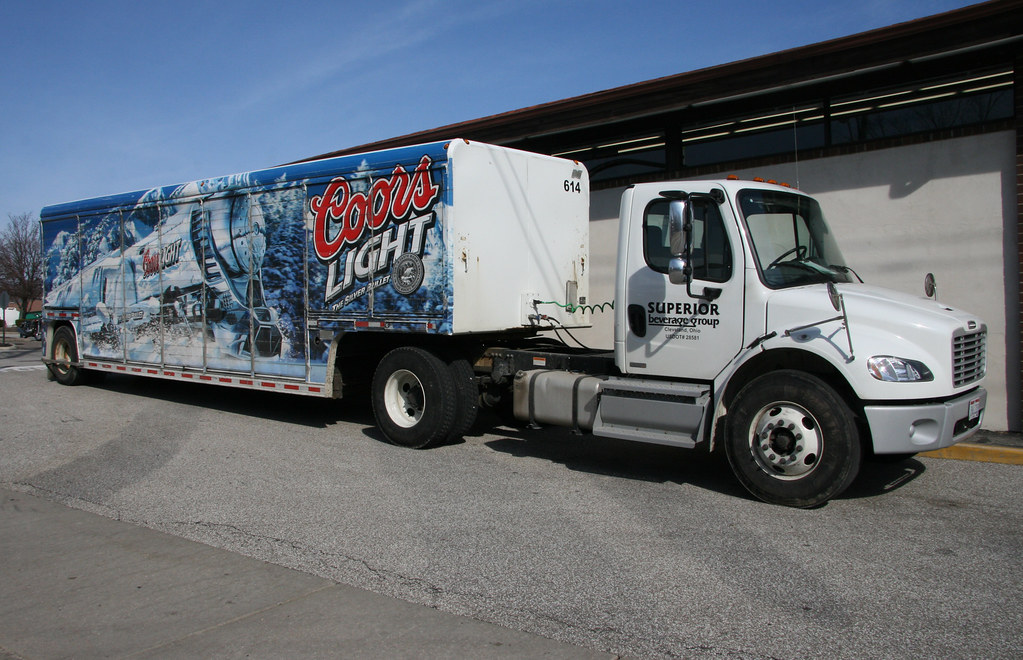truck: (39, 137, 991, 504)
